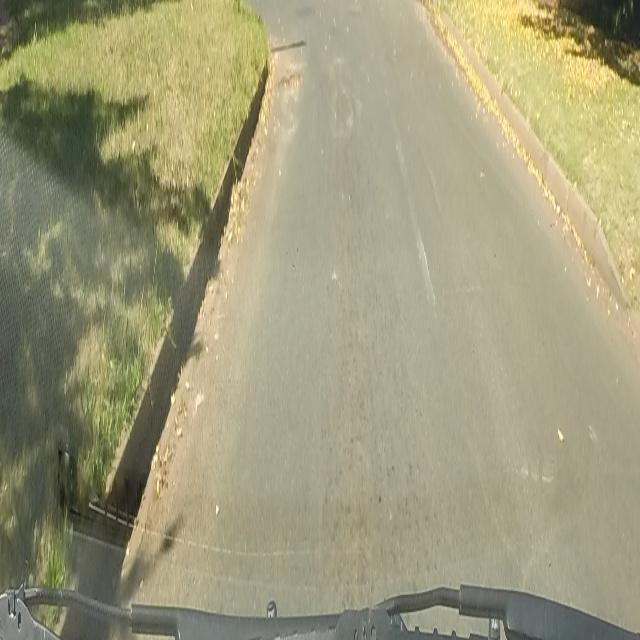pothole: (277, 69, 303, 96)
